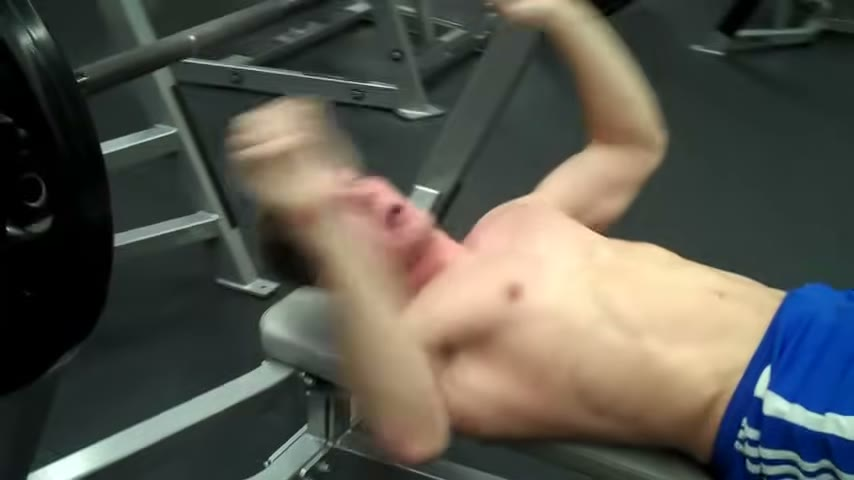barbell_plate_side: (239, 6, 508, 480), (0, 6, 127, 480)
